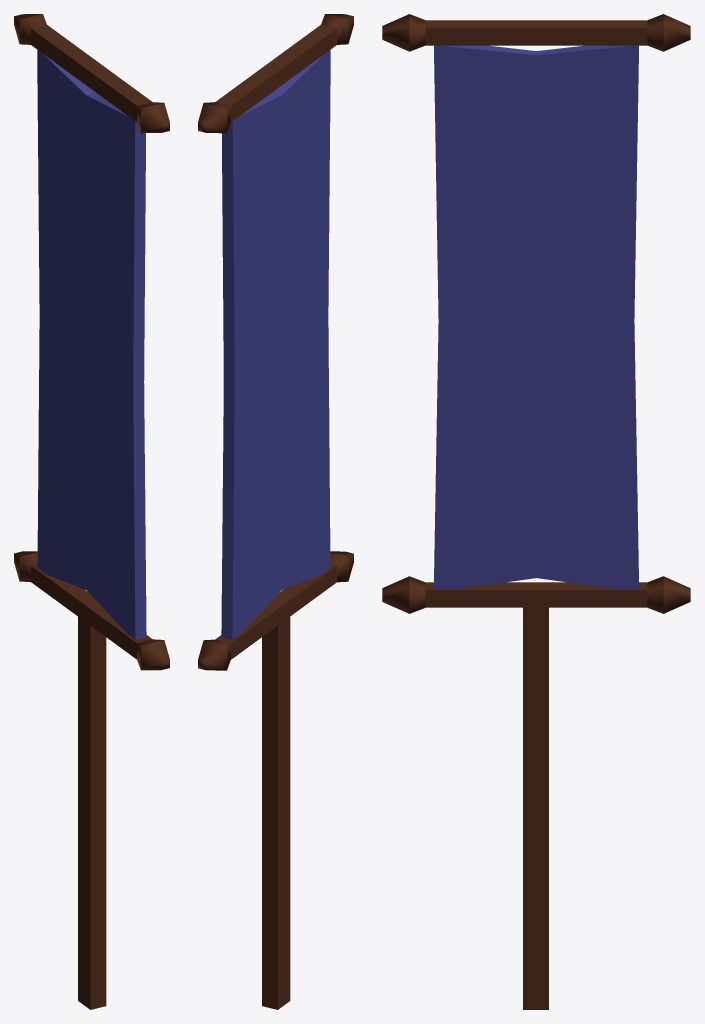
Rendered from flama1.fbx.
3 views of the same model, side by side, from view 1: azimuth 30°, elevation 25°; view 2: azimuth 150°, elevation 25°; view 3: azimuth 270°, elevation 25° (orthographic). The views are drawn at different scales.
Visible parts, largest first — view 1: Cube; view 2: Cube; view 3: Cube.
Part boxes in pixels (x1,y1,x2,y2): Cube: (14, 14, 169, 1009); Cube: (198, 14, 353, 1009); Cube: (382, 14, 690, 1009).
Bounding box in the file's own units: 29.28 × 1120 × 318.
